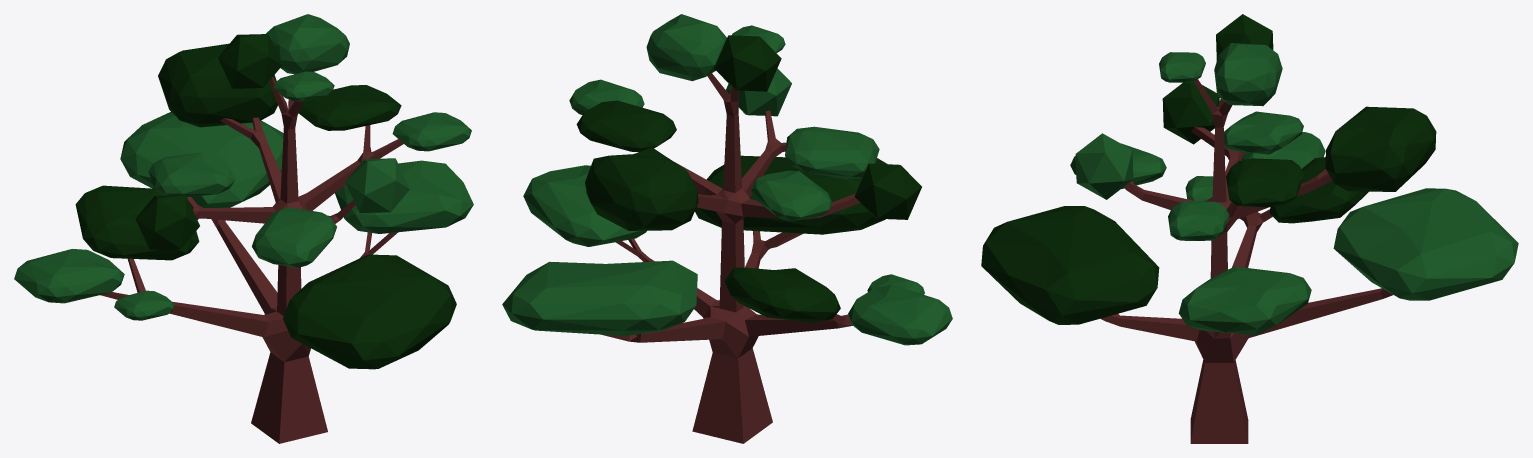
The model's file is tree_green_02.fbx.
The picture shows the model from 3 angles, left to right: view 1: azimuth 30°, elevation 25°; view 2: azimuth 150°, elevation 25°; view 3: azimuth 270°, elevation 25°; orthographic projection. The views are drawn at different scales.
Visible parts, largest first — view 1: Cube.005, Icosphere.026, Icosphere.027, Icosphere.025, Icosphere.024, Icosphere.023, Icosphere.021, Icosphere.030, Icosphere.032, Icosphere.029, Icosphere.031, Icosphere.033 (+5 smaller); view 2: Cube.005, Icosphere.027, Icosphere.025, Icosphere.024, Icosphere.023, Icosphere.021, Icosphere.026, Icosphere.030, Icosphere.032, Icosphere.029, Icosphere.031, Icosphere.033 (+5 smaller); view 3: Icosphere.026, Icosphere.027, Cube.005, Icosphere.025, Icosphere.024, Icosphere.032, Icosphere.029, Icosphere.034, Icosphere.023, Icosphere.031, Icosphere.035, Icosphere.028 (+5 smaller).
Part boxes in pixels (box(x1,y1,x2,y2)): Cube.005: box(100, 77, 403, 443); Icosphere.026: box(283, 254, 456, 369); Icosphere.027: box(120, 112, 283, 207); Icosphere.025: box(158, 43, 277, 127); Icosphere.024: box(335, 160, 473, 233); Icosphere.023: box(75, 185, 199, 260); Icosphere.021: box(14, 249, 124, 303); Icosphere.030: box(252, 207, 336, 267); Icosphere.032: box(266, 14, 349, 74); Icosphere.029: box(298, 85, 401, 130); Icosphere.031: box(148, 152, 235, 197); Icosphere.033: box(218, 34, 282, 88); Cube.005: box(602, 73, 860, 443); Icosphere.027: box(502, 260, 697, 335); Icosphere.025: box(585, 147, 698, 230); Icosphere.024: box(523, 165, 646, 246); Icosphere.023: box(724, 267, 840, 322); Icosphere.021: box(848, 284, 952, 345); Icosphere.026: box(695, 155, 887, 234); Icosphere.030: box(785, 126, 879, 179); Icosphere.032: box(646, 14, 726, 81); Icosphere.029: box(576, 100, 676, 151); Icosphere.031: box(751, 170, 832, 221); Icosphere.033: box(714, 35, 781, 91); Icosphere.026: box(981, 206, 1159, 324); Icosphere.027: box(1333, 188, 1518, 300); Cube.005: box(1100, 79, 1392, 443); Icosphere.025: box(1325, 106, 1436, 191); Icosphere.024: box(1178, 266, 1311, 335); Icosphere.032: box(1214, 43, 1282, 106); Icosphere.029: box(1226, 158, 1304, 207); Icosphere.034: box(1075, 133, 1133, 199); Icosphere.023: box(1269, 157, 1368, 223); Icosphere.031: box(1224, 111, 1303, 154); Icosphere.035: box(1162, 82, 1219, 144); Icosphere.028: box(1168, 201, 1229, 240).
Bounding box in the file's own units: 1254 × 1126 × 1375.
